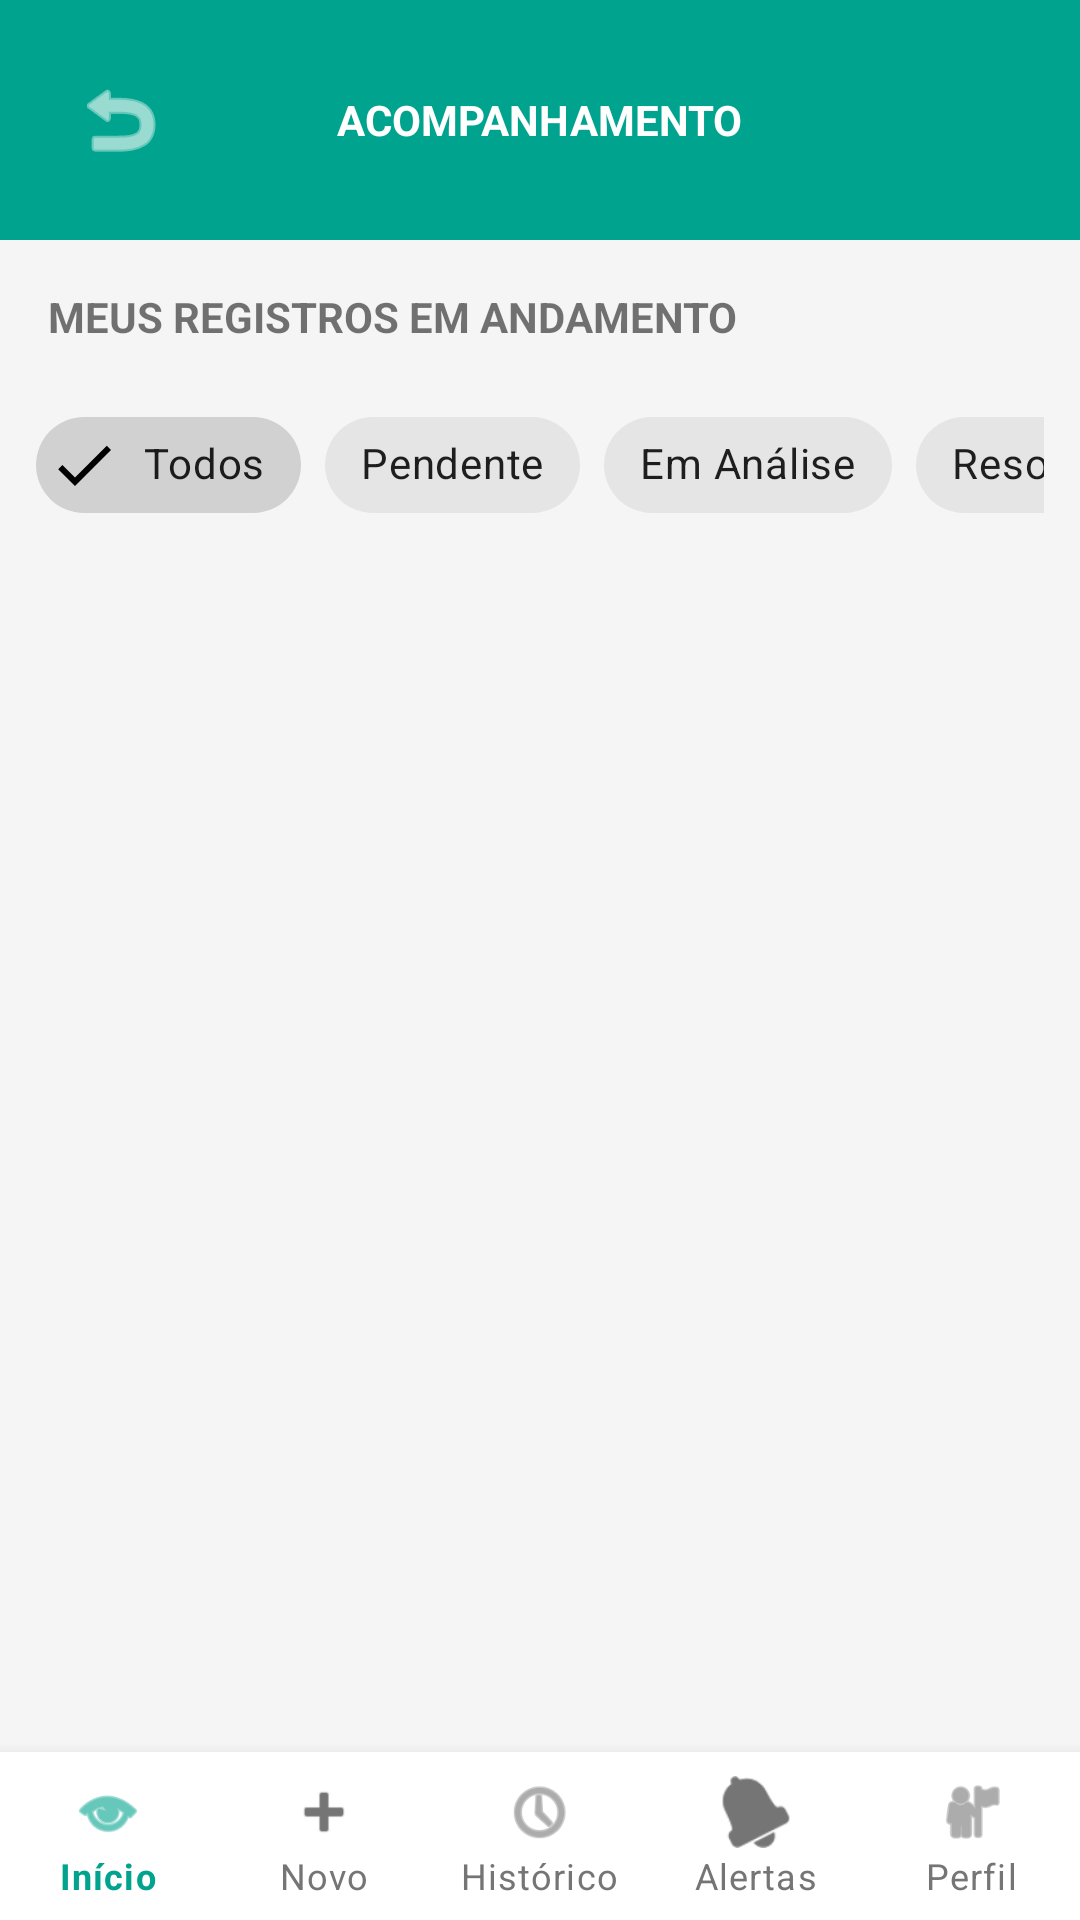

Named icons in this screenshot (1080w x 1920h) and their bounding boxes, (x1, y1, x2, y2):
Voltar: (87, 89, 156, 152)
